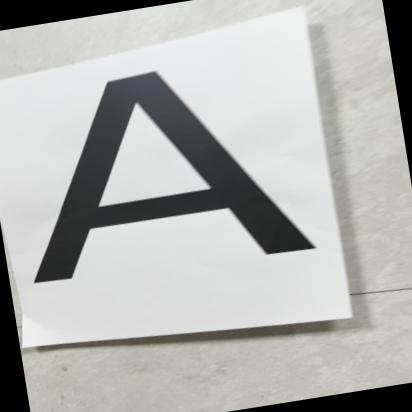seat: (0, 42, 335, 304)
